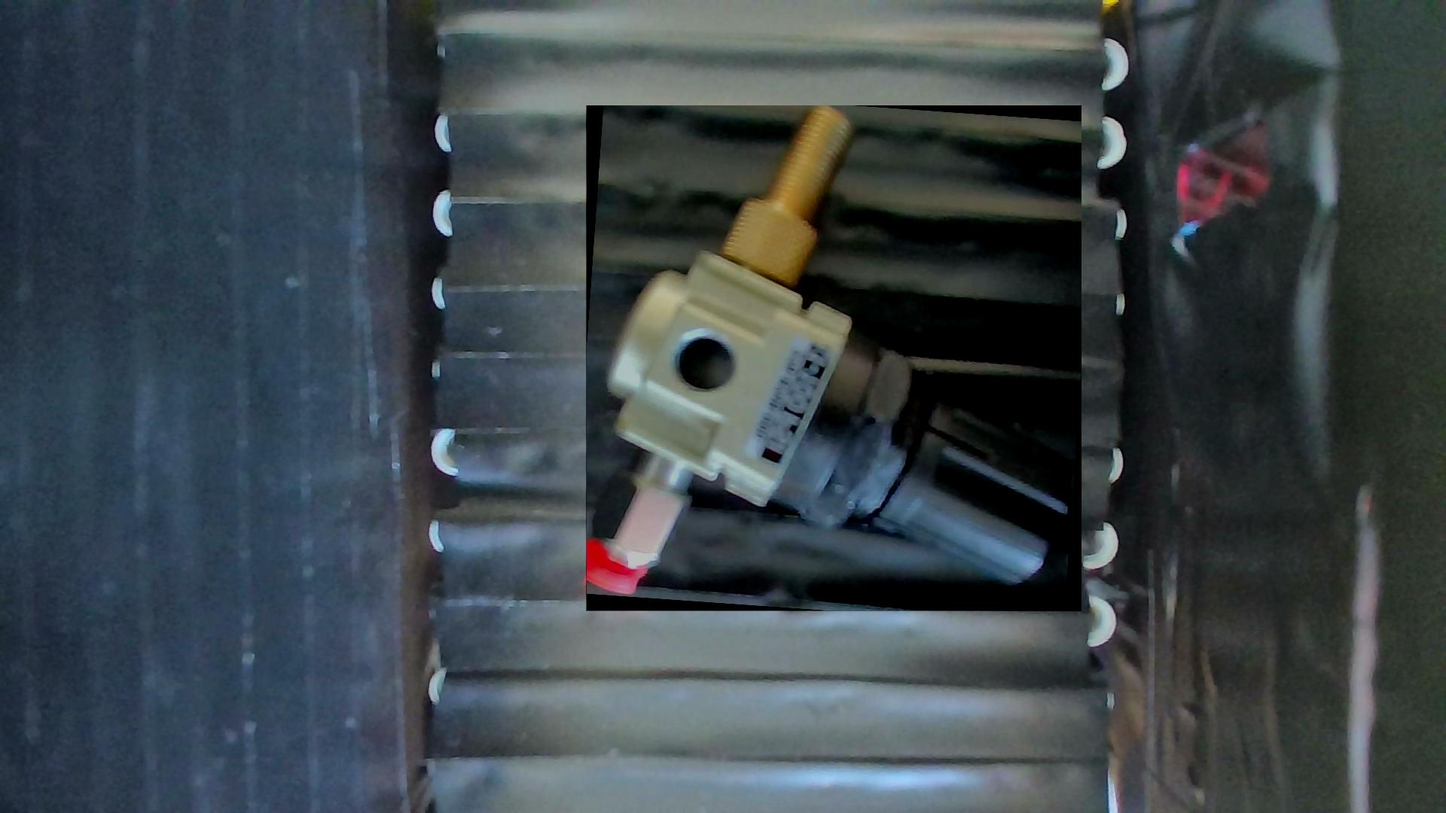regulator: (585, 106, 1081, 612)
